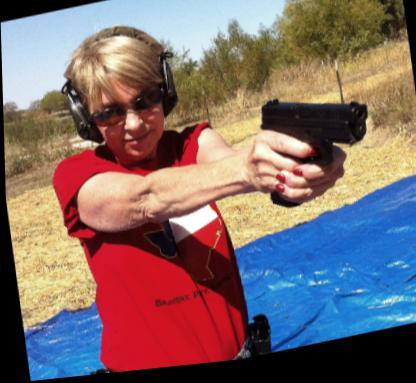pistol: (252, 84, 378, 214)
